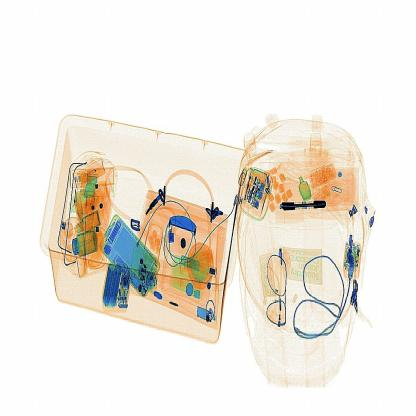knife: (270, 188, 334, 224)
